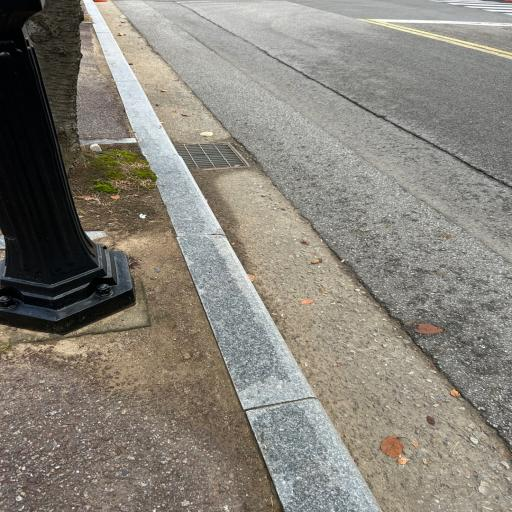drain: (175, 143, 248, 169)
